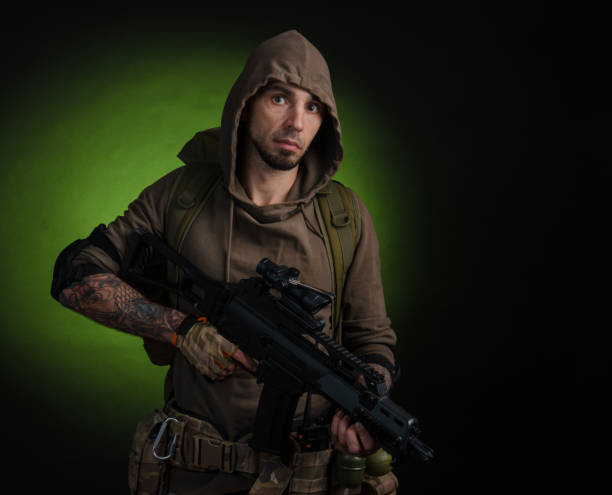e1: (335, 446, 367, 487)
